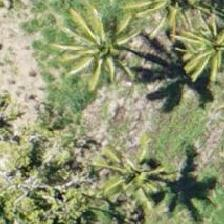coconut_tree: (60, 0, 150, 90), (77, 135, 167, 223), (153, 2, 223, 92)
